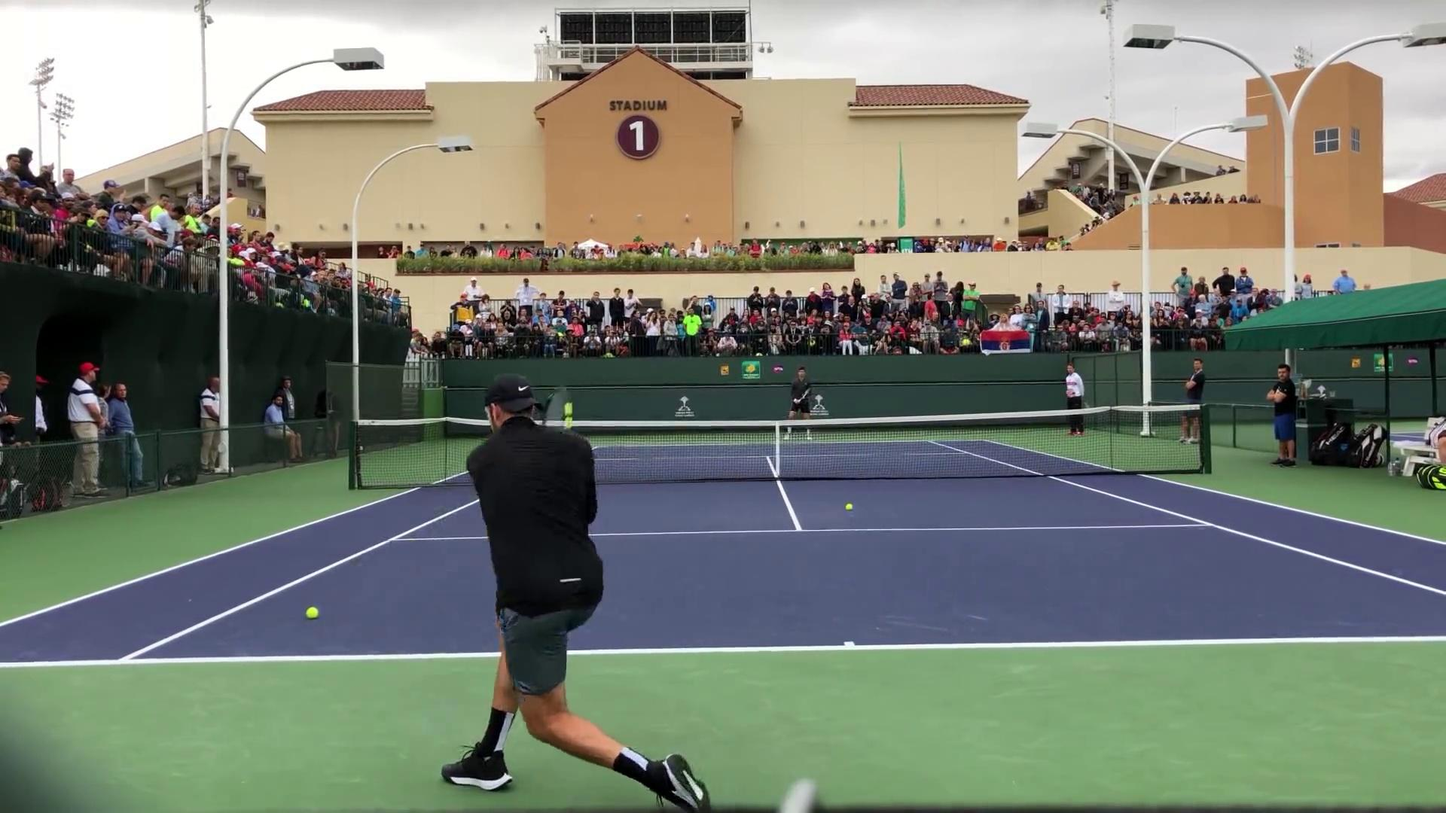ball: (305, 606, 317, 619), (844, 502, 854, 511)
